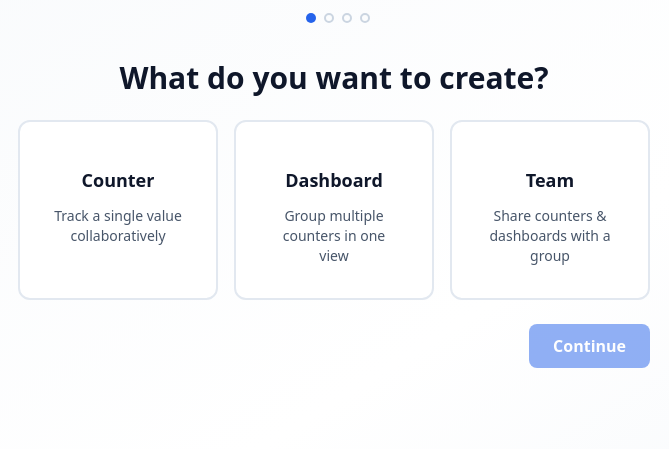
Test: Create page › owner step › preselects private visibility after picking a team in the owner step
The width and height of the screenshot is (669, 449).
Step 1. Click the button "Counter Track a single value collaboratively" → x=118, y=210, box [18, 120, 218, 300]
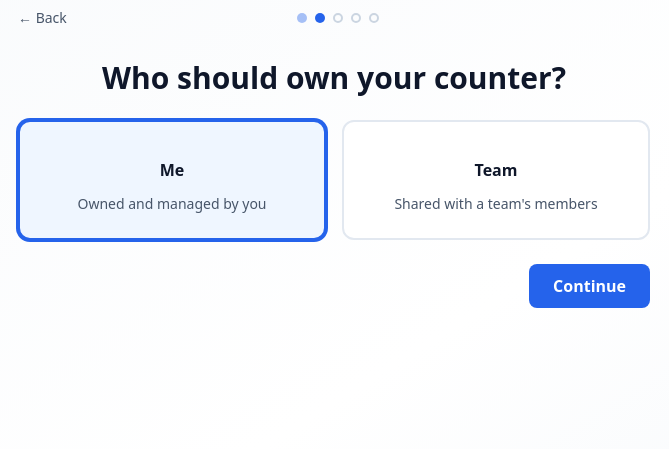
Expected: the number of headings is 1, [102, 57, 566, 98]
Result: the heading reads "Who should own your counter?" at [102, 57, 566, 98]
Step 2. Click the button "Team Shared with a team's members" → x=496, y=180, box [342, 120, 650, 240]
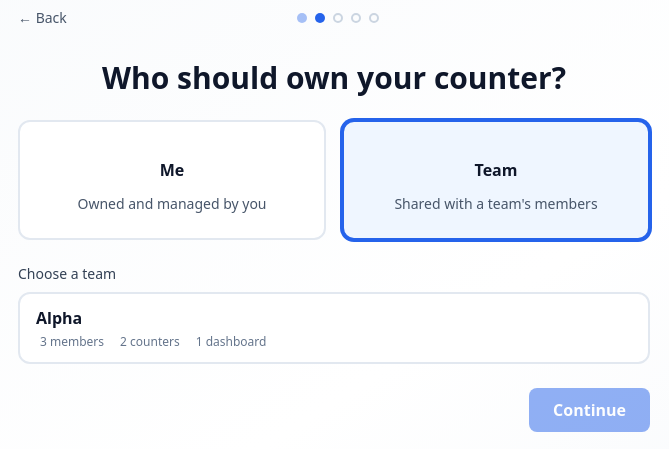
Step 3. Click the button "Alpha 3 members 2 counters 1 dashboard" → x=59, y=318, box [18, 292, 650, 364]
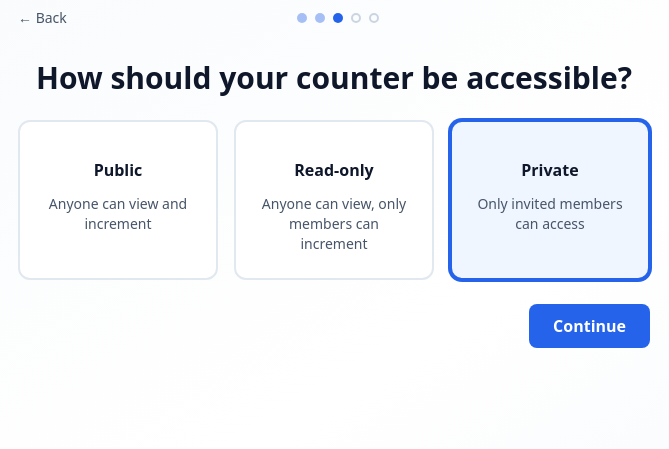
Expected: the number of headings is 1, [18, 60, 650, 96]
Result: the heading shows "How should your counter be accessible" at [36, 57, 632, 98]
